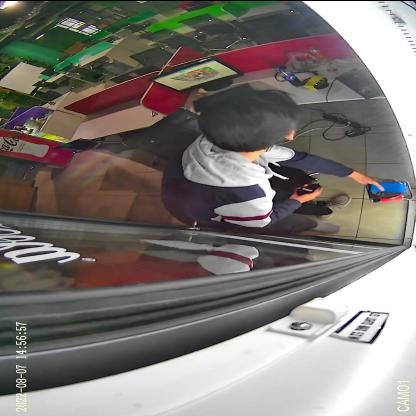blue: (370, 178, 406, 198)
red: (364, 180, 412, 202)
